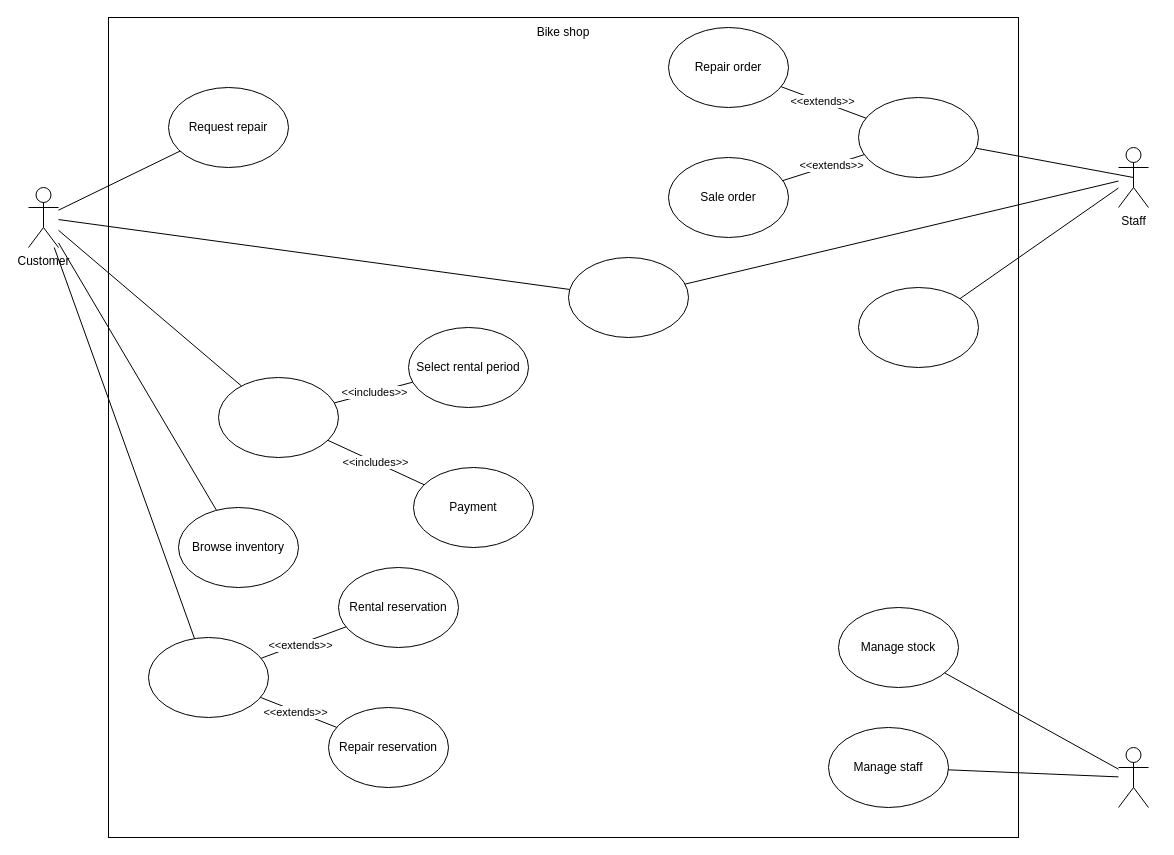
Image size: 1174x855. Some labels were removed from this diagram. The shapes that lost their labels are listed below. From the top down, each one's box as (x1, y1, x2, y2) in pixels, then its label:
(858, 96, 978, 178): Create order
(568, 256, 688, 338): Hand over bike
(858, 286, 978, 368): Schedule repair
(218, 376, 338, 458): Place rental order
(148, 636, 268, 718): Cancel reservation
(1118, 746, 1148, 808): Manager
